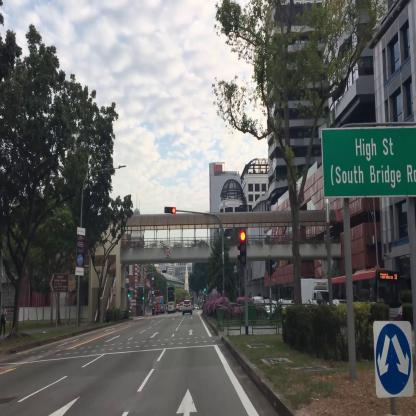red_traffic_light: (240, 230, 245, 264), (165, 206, 175, 213)
